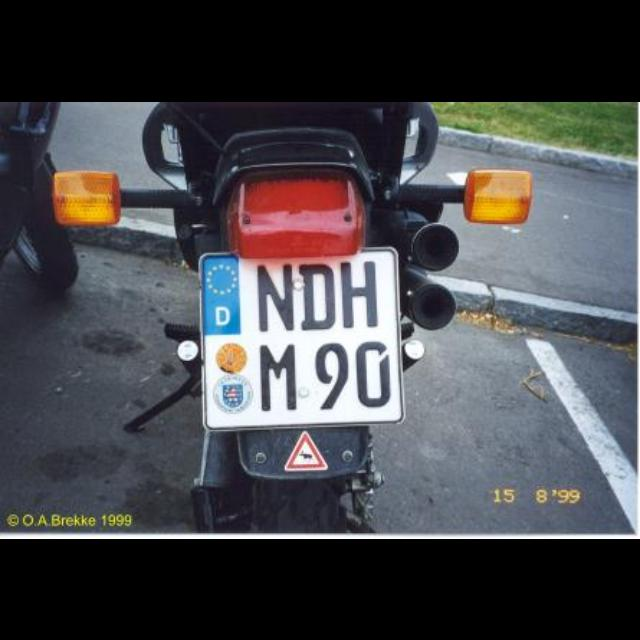d_license_plate: (200, 246, 402, 424)
